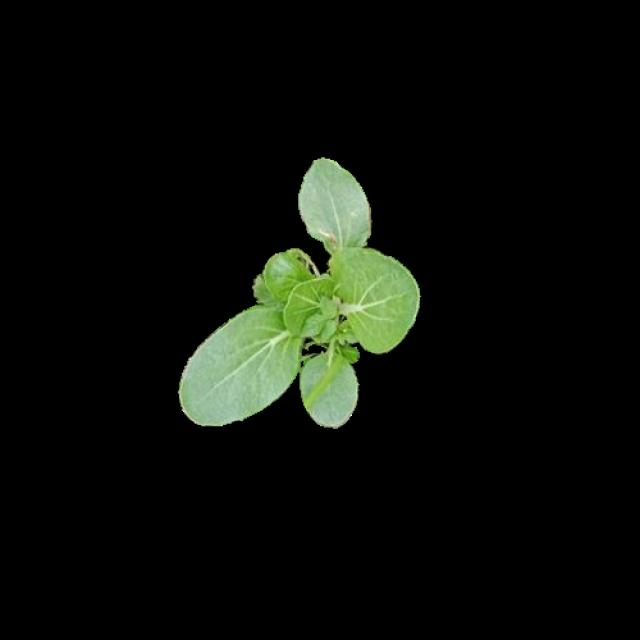not-mature: (180, 159, 418, 429)
unhealthy: (300, 160, 372, 253)
